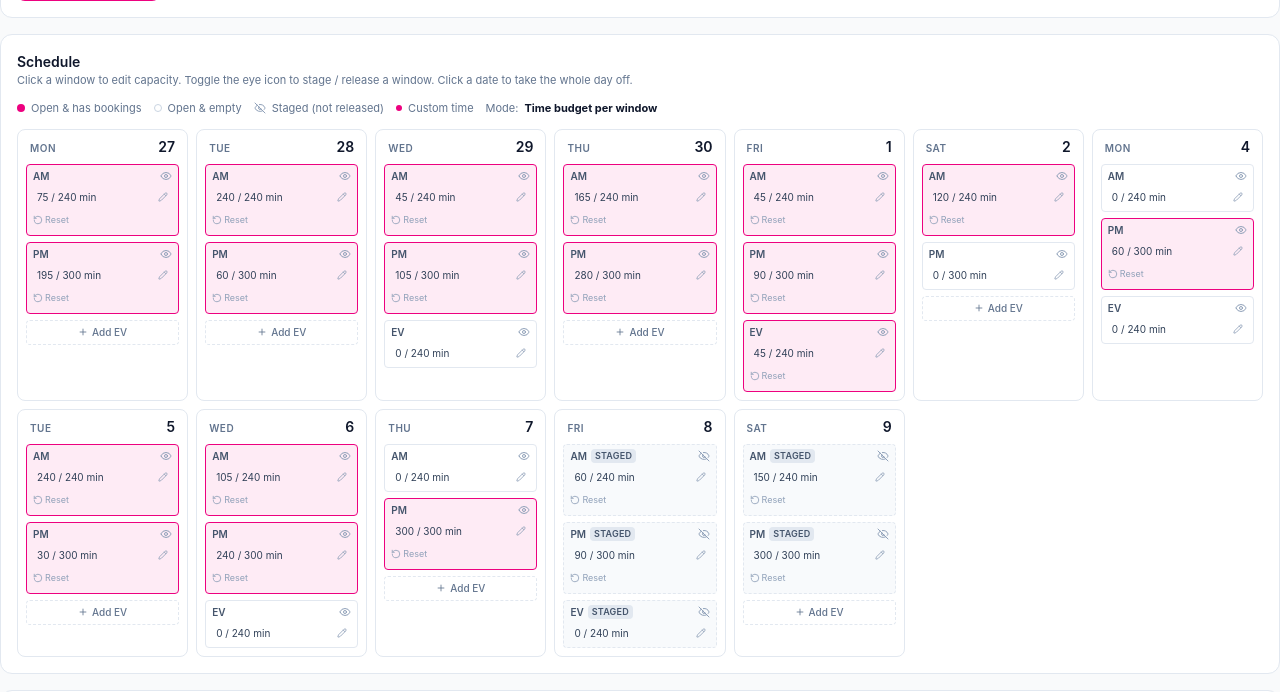
RolloutScheduleEditor — Evening windows › clicking Add EV creates the evening slot and shows an undo toast
(page scrolled)
Click the button with test id "rollout-add-evening-2026-04-27". click: (103, 332)
box: [26, 320, 179, 345]
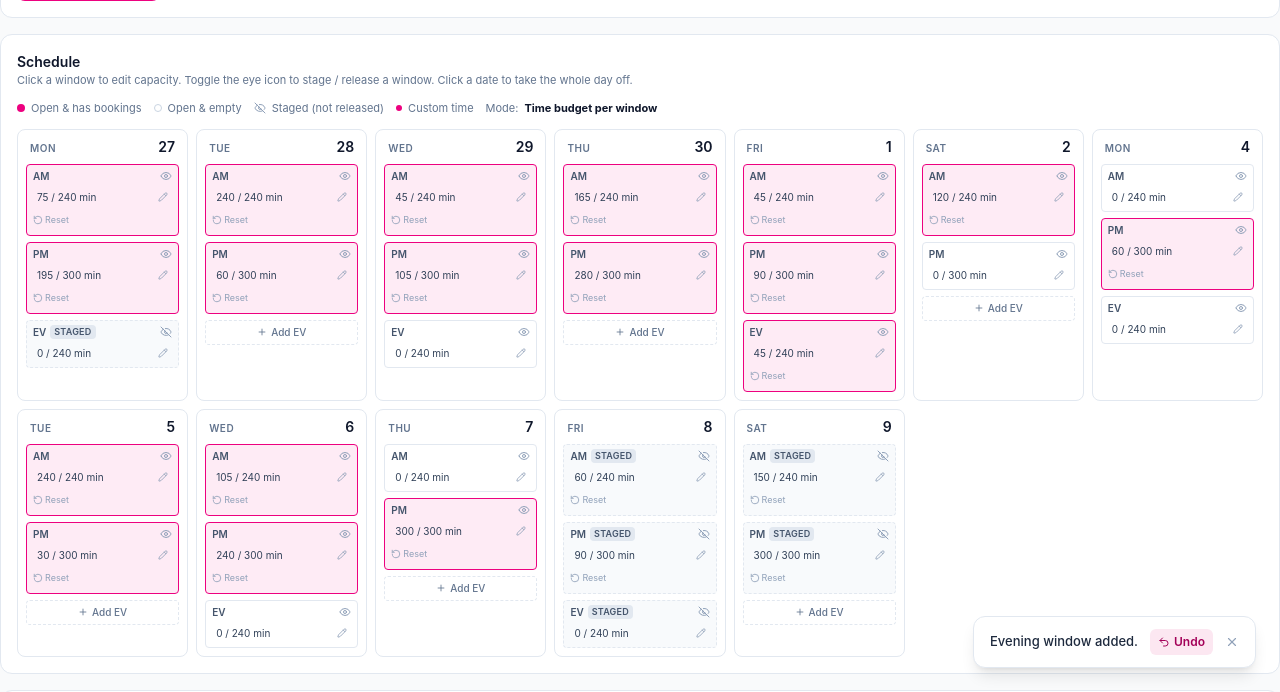
Expected: the 1st text "EV" is shown, [33, 326, 46, 338]
Expected: the button with test id "rollout-add-evening-2026-04-27" is gone
Expected: the text "Evening window added." is shown, [990, 632, 1138, 652]
